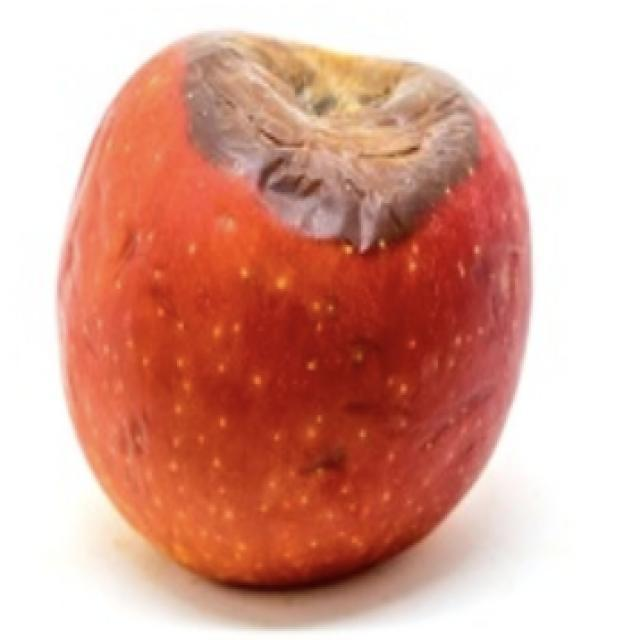Rotten: (80, 40, 535, 580)
